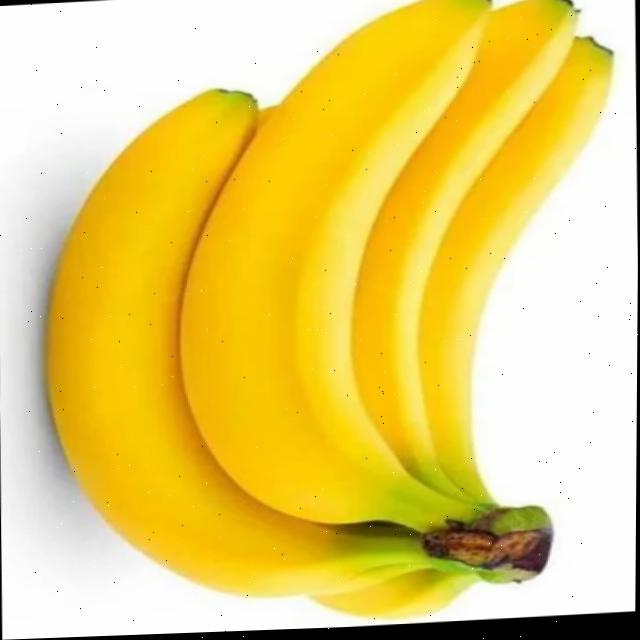Banana: (46, 91, 479, 620), (180, 0, 488, 535), (354, 1, 575, 505), (421, 42, 611, 504)
